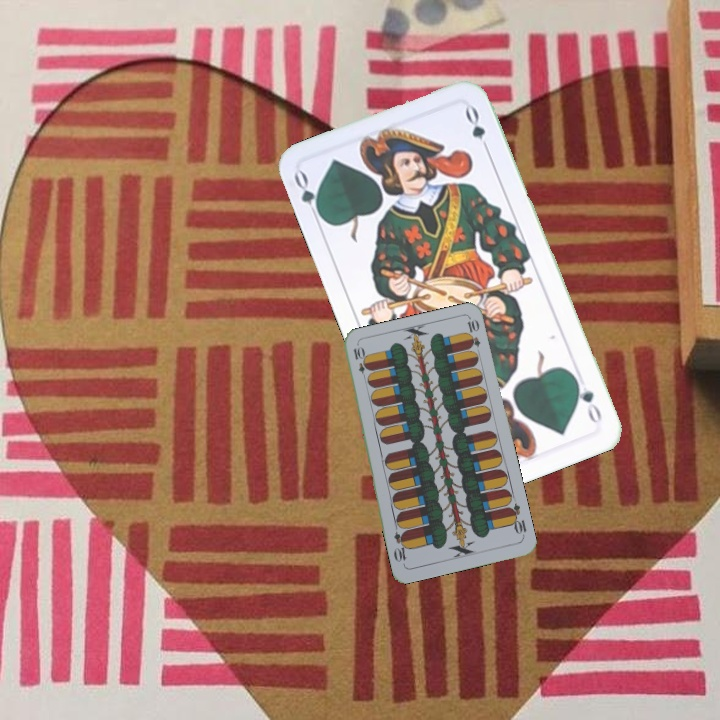E10: (504, 500, 529, 540), (349, 343, 370, 383)
GO: (289, 167, 326, 225), (570, 372, 605, 427)
